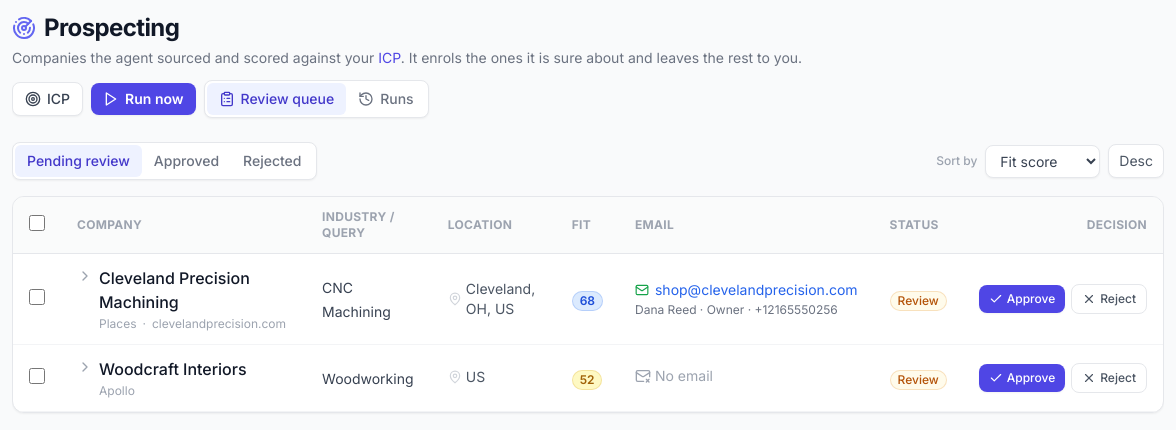
Test case: Prospecting page › renders run history with its found/qualified/enrolled tallies
This screenshot has width=1176, height=430.
Click the button "Runs" at (386, 99), box 346,83 -> 426,115
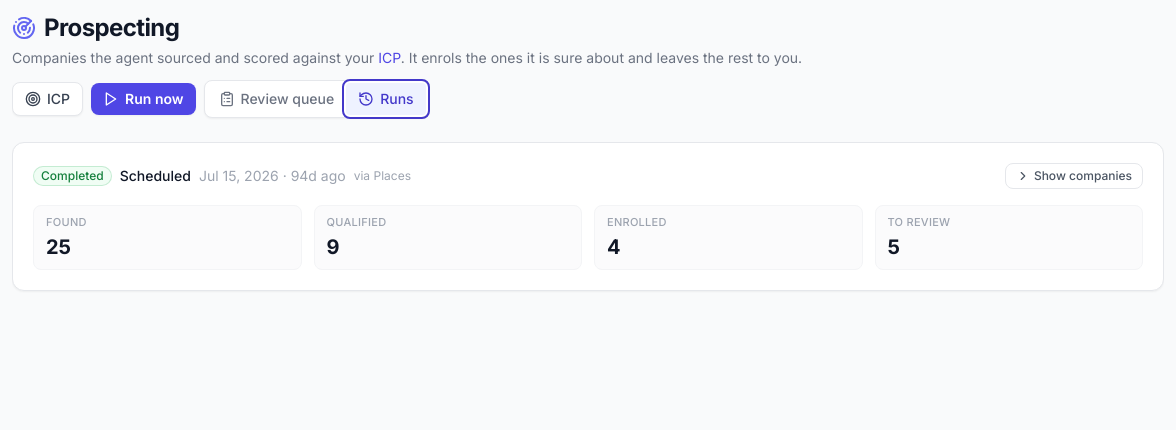
Check: the text "completed" is shown, box 33,166 -> 112,186
Check: the text "9" is shown, box 326,234 -> 340,258
Check: the text "4" is shown, box 607,234 -> 620,258
